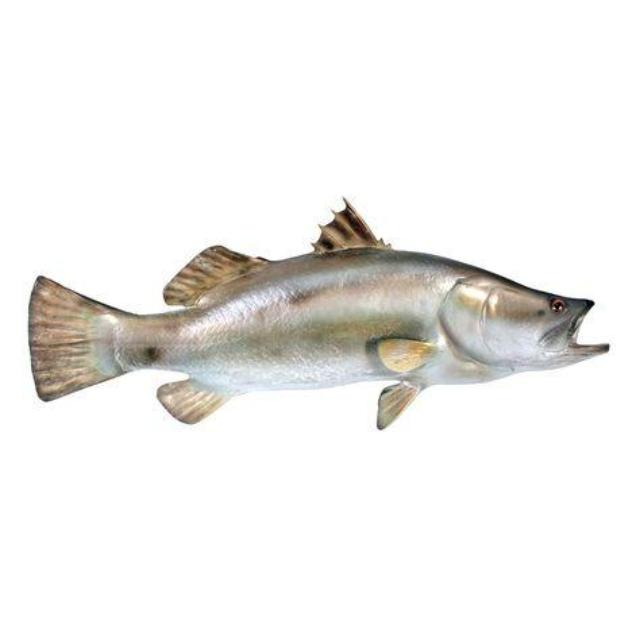Seabass: (26, 198, 612, 432)
